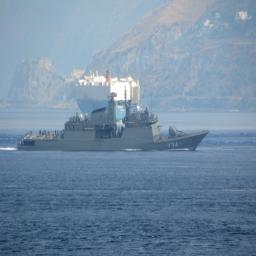Fragata: (16, 90, 214, 155)
